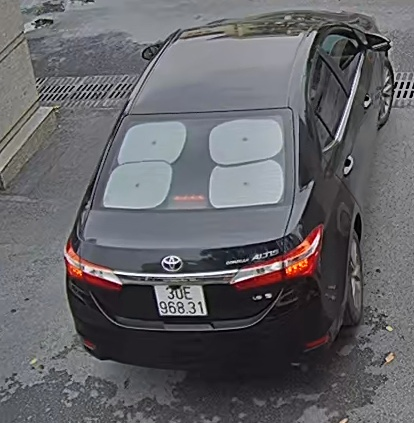vehicle plate: (148, 279, 209, 321)
